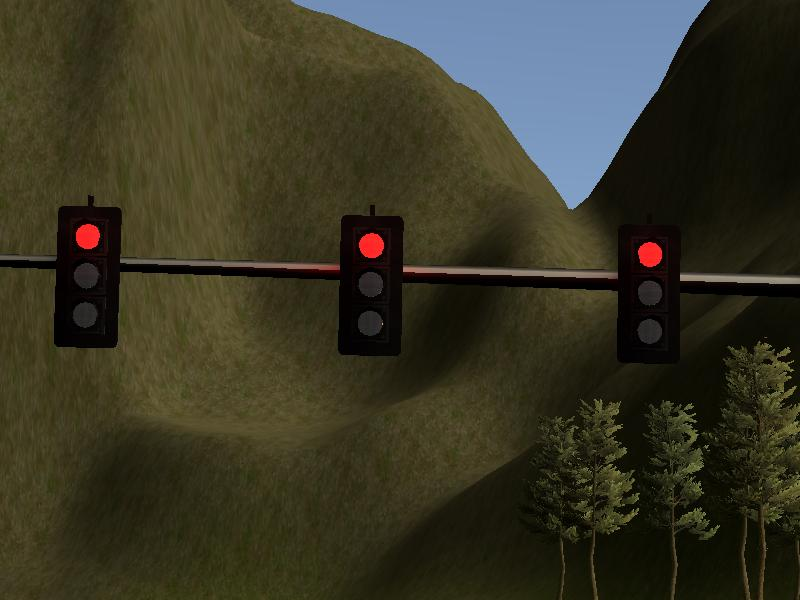red: (53, 204, 119, 347), (616, 225, 682, 363), (340, 214, 403, 356)
